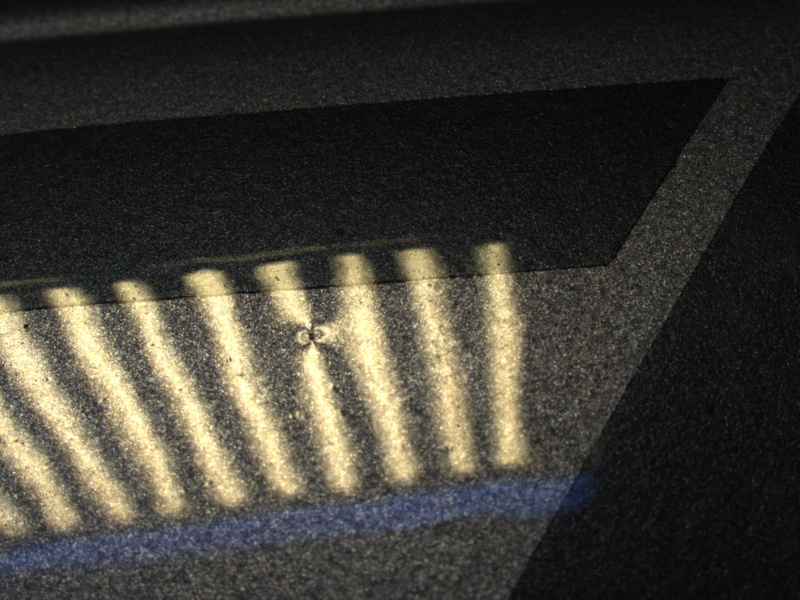bad: (283, 308, 349, 361)
